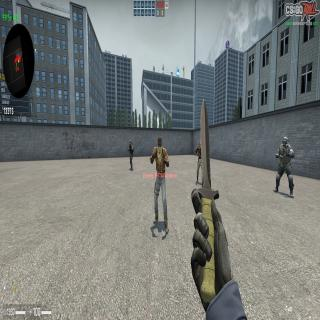CT-Body: (273, 136, 295, 199), (128, 140, 134, 171)
CT-Head: (282, 136, 288, 149), (130, 140, 132, 146)
T-Body: (150, 137, 170, 234), (195, 139, 201, 185)
T-Head: (158, 137, 162, 153), (199, 139, 201, 148)
